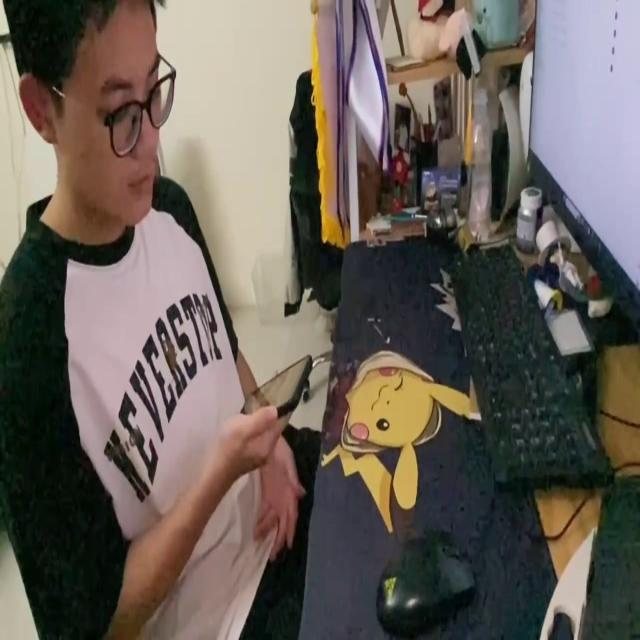laptop: (526, 2, 640, 338)
phone: (234, 351, 312, 419)
student: (1, 0, 309, 640)
